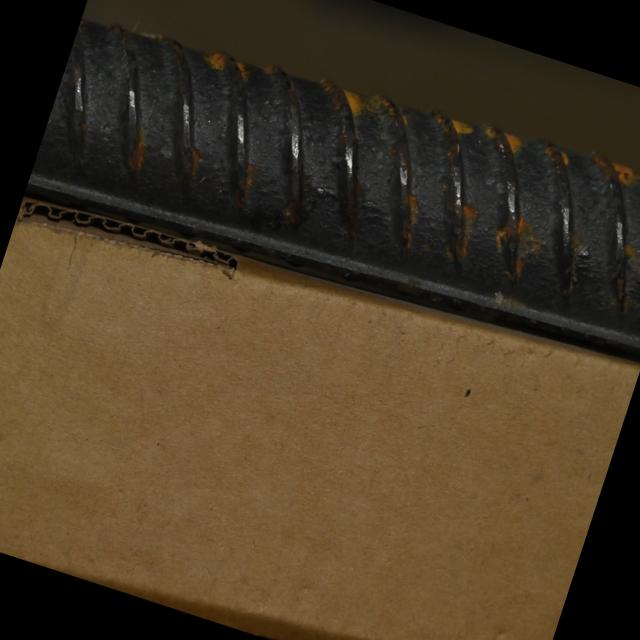ribbed bar: (23, 0, 640, 411)
